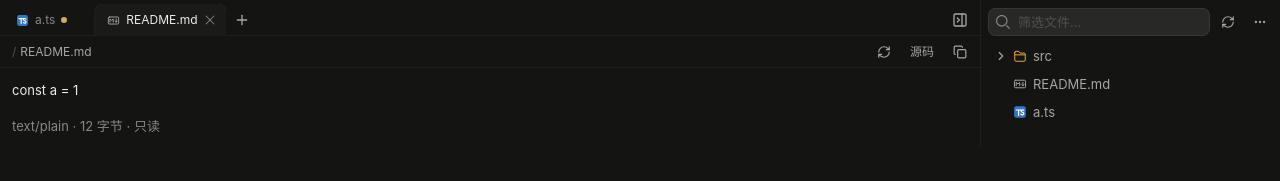
FilesPane follows the project (BUG-11) › 4 · a background tab is marked, and re-read when it is shown
The width and height of the screenshot is (1280, 181).
Check: the element named "有更新" is shown, box top-left (61, 17), bottom-right (67, 23)
Click the tab "a.ts" at (38, 20), box top-left (4, 4), bottom-right (71, 36)
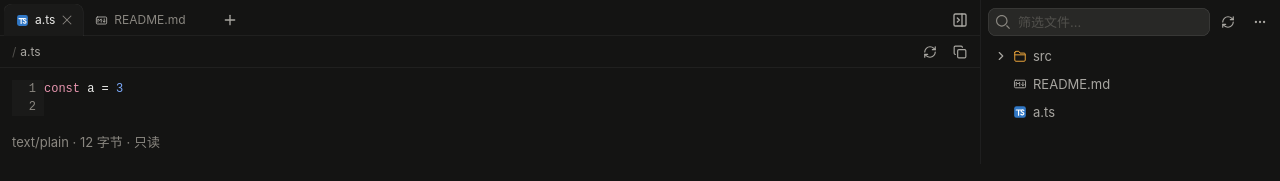
Check: the element with class "file-code-view" shows "const a = 3", box top-left (12, 80), bottom-right (123, 116)
